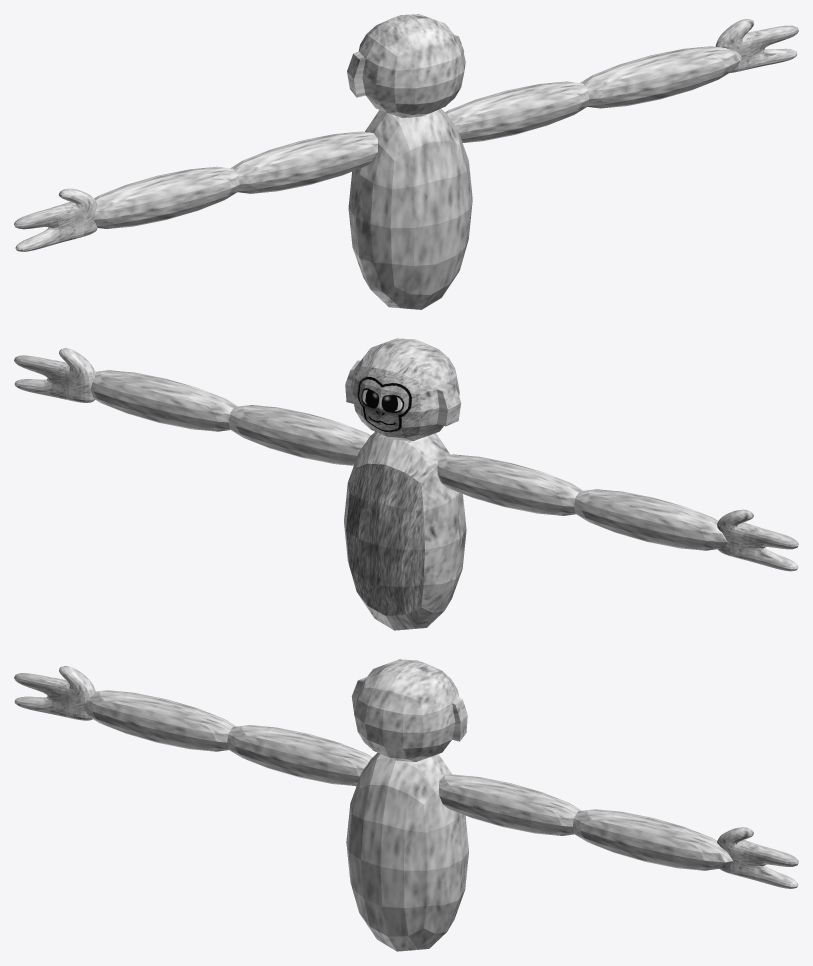
The model's file is Player2.fbx.
The picture shows the model from 3 angles, top to bottom: view 1: azimuth 30°, elevation 25°; view 2: azimuth 150°, elevation 25°; view 3: azimuth 330°, elevation 25°; orthographic projection.
Parts seen in each view (by area): view 1: Cube, Cube.001, Cube.003, Cube.004, Cube.005, Cube.002, Cube.007, Cube.006; view 2: Cube, Cube.001, Cube.004, Cube.003, Cube.005, Cube.002, Cube.006, Cube.007; view 3: Cube, Cube.001, Cube.003, Cube.004, Cube.002, Cube.005, Cube.007, Cube.006.
Boxes of the visible parts, x1,y1,x2,y2 form: Cube: (348, 108, 472, 309); Cube.001: (347, 14, 465, 117); Cube.003: (580, 46, 741, 108); Cube.004: (93, 166, 239, 228); Cube.005: (230, 131, 377, 193); Cube.002: (445, 81, 589, 142); Cube.007: (14, 188, 97, 251); Cube.006: (715, 19, 798, 72); Cube: (344, 431, 466, 630); Cube.001: (345, 338, 461, 440); Cube.004: (574, 489, 727, 550); Cube.003: (90, 370, 237, 431); Cube.005: (437, 454, 583, 515); Cube.002: (228, 405, 370, 465); Cube.006: (14, 348, 95, 402); Cube.007: (717, 509, 798, 571); Cube: (346, 752, 468, 951); Cube.001: (351, 659, 467, 761); Cube.003: (572, 809, 733, 870); Cube.004: (83, 690, 236, 751); Cube.002: (439, 774, 581, 835); Cube.005: (227, 725, 372, 786); Cube.007: (14, 666, 95, 720); Cube.006: (717, 827, 798, 888).
Bounding box in the file's own units: 1385 × 486 × 168.
Materials: 10 (9 with a texture image).
